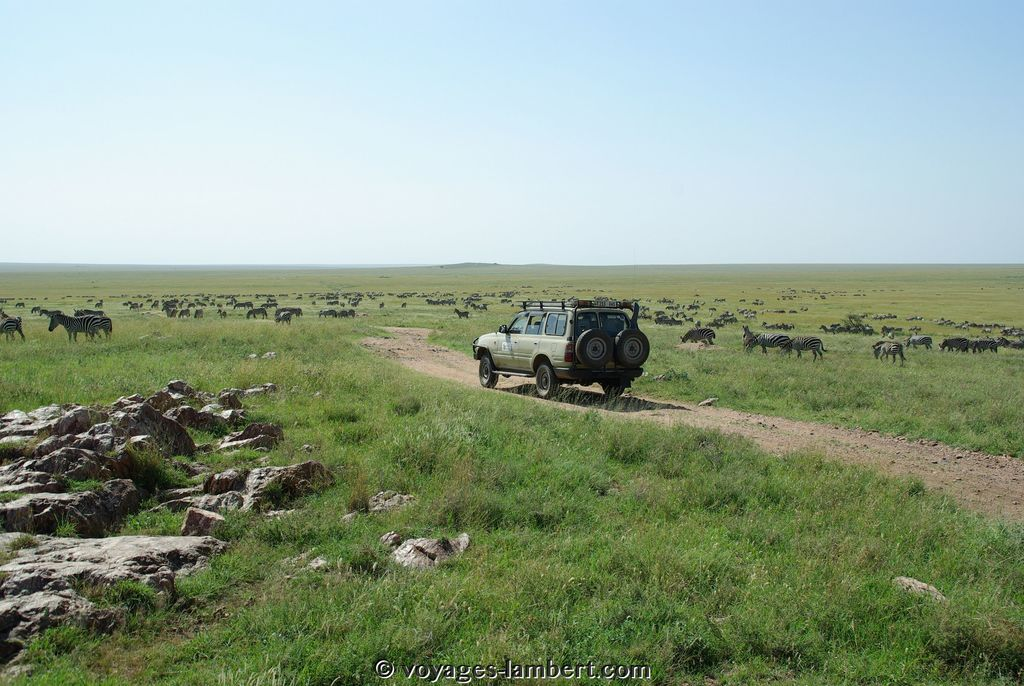Car: (469, 292, 656, 406)
